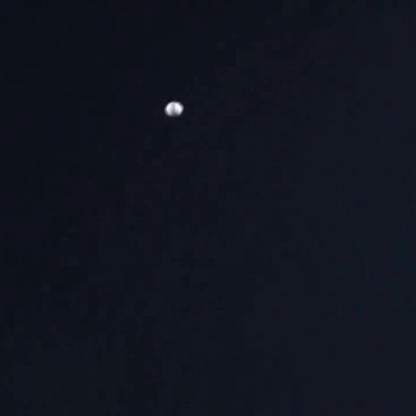ball: (164, 97, 186, 117)
